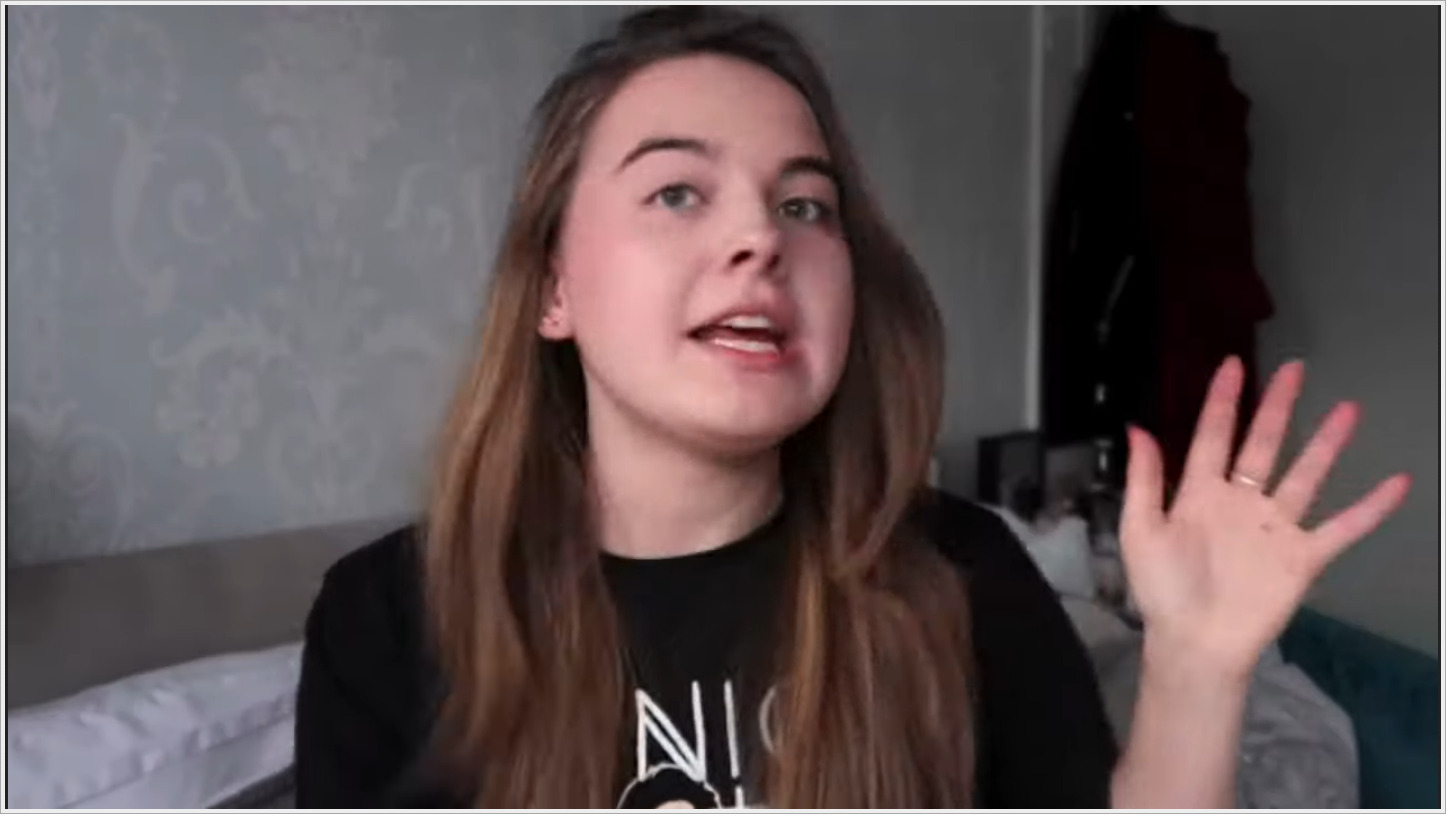hand: (1114, 353, 1416, 666)
